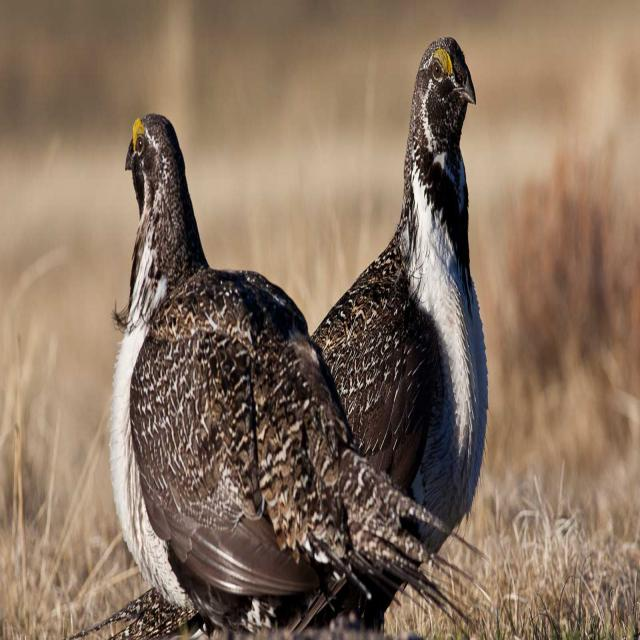bird: (108, 110, 510, 623), (318, 34, 492, 623)
